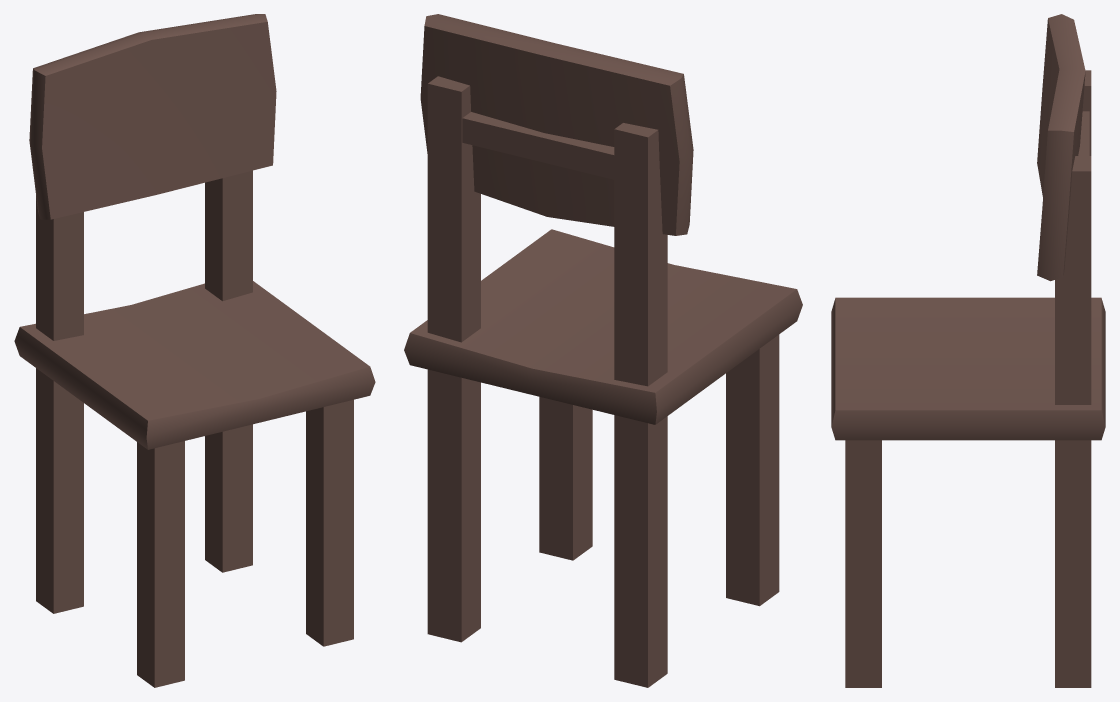
File: Chair.fbx
The picture shows the model from 3 angles, left to right: view 1: azimuth 30°, elevation 25°; view 2: azimuth 150°, elevation 25°; view 3: azimuth 270°, elevation 25°; orthographic projection. The views are drawn at different scales.
Visible parts, largest first — view 1: Chair; view 2: Chair; view 3: Chair.
Part boxes in pixels (bbox=[...]): Chair: bbox=[14, 14, 375, 687]; Chair: bbox=[404, 14, 802, 687]; Chair: bbox=[831, 14, 1105, 687].
Size of the model in its own units: 1.24 by 2.67 by 1.16.
